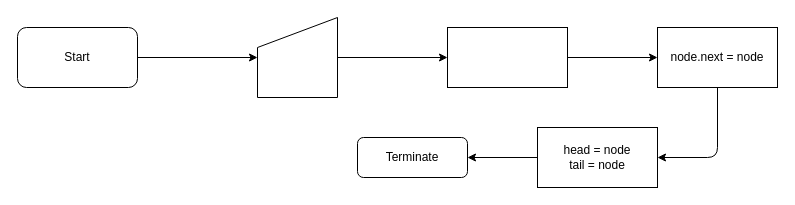
The diagram is 795 pixels wide and 205 high, and some of its shapes have lost their labels. The box of each missing label's shape, as (x1, y1, x2, y2) in pixels:
- Create blank node - node.value = nodeValue: (446, 26, 568, 88)
nodeValue: (256, 16, 338, 98)
